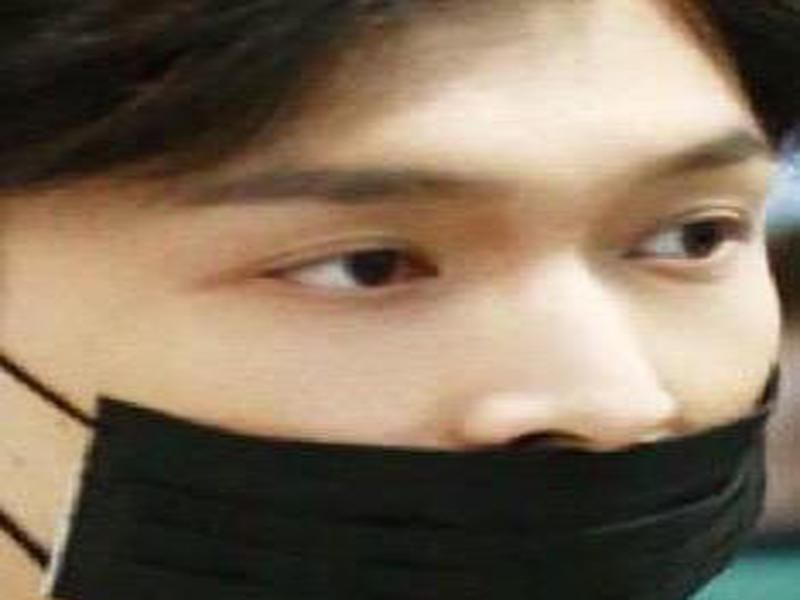with_mask: (1, 7, 791, 600)
